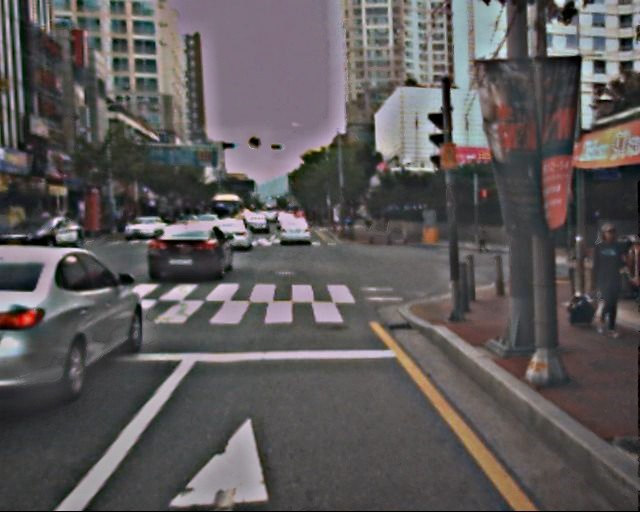person: (578, 219, 633, 339)
